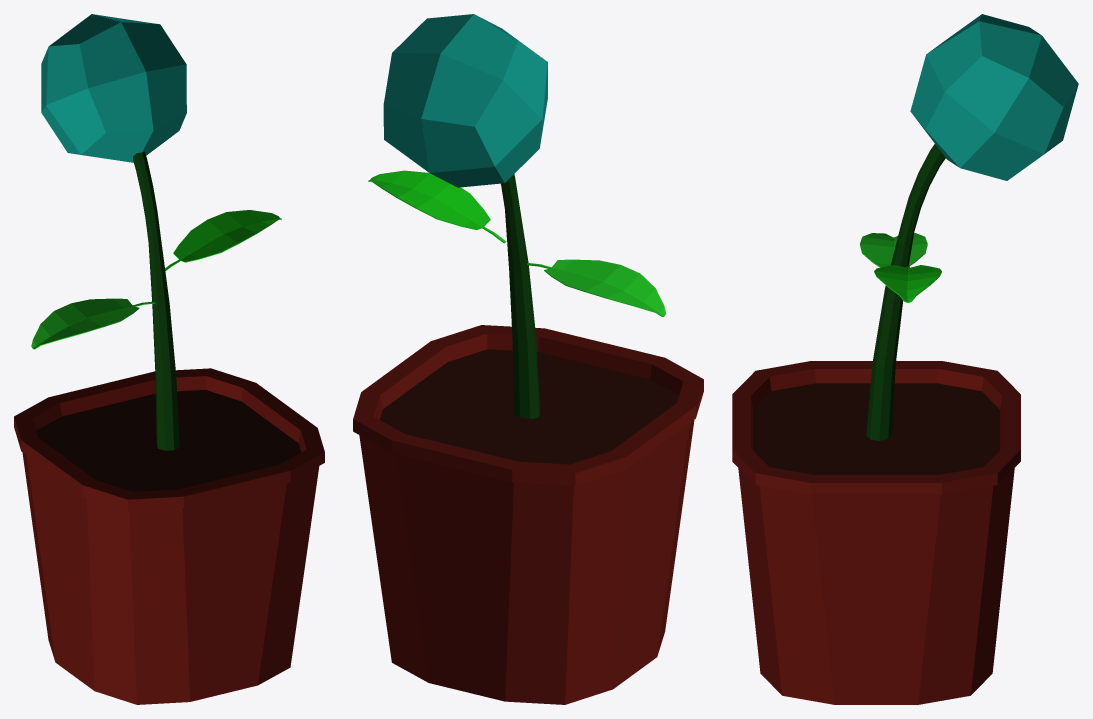
File: Flower Pot 1.fbx
The picture shows the model from 3 angles, left to right: view 1: azimuth 30°, elevation 25°; view 2: azimuth 150°, elevation 25°; view 3: azimuth 270°, elevation 25°; orthographic projection. The views are drawn at different scales.
Parts seen in each view (by area): view 1: Node 0; view 2: Node 0; view 3: Node 0.
Boxes of the visible parts, x1,y1,x2,y2 form: Node 0: (14, 14, 324, 704); Node 0: (353, 14, 703, 704); Node 0: (732, 14, 1078, 704).
Size of the model in its own units: 0.1008 by 0.2036 by 0.0909.
